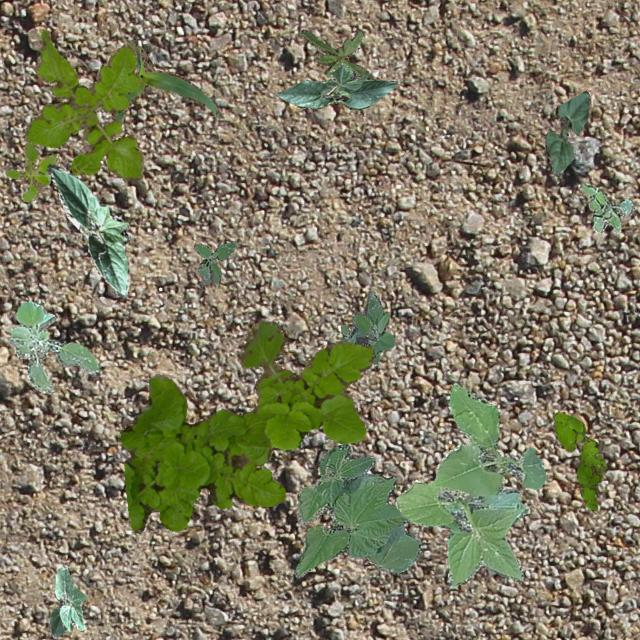crop: (294, 442, 421, 576), (45, 164, 128, 296), (111, 38, 218, 122), (274, 62, 396, 108), (544, 90, 588, 174), (48, 566, 86, 636)
weed: (119, 319, 374, 532), (394, 384, 546, 586), (24, 28, 142, 180), (10, 300, 99, 392), (552, 412, 604, 509), (339, 290, 394, 364), (299, 28, 373, 78), (5, 140, 58, 200), (578, 182, 634, 232), (192, 240, 235, 284)
